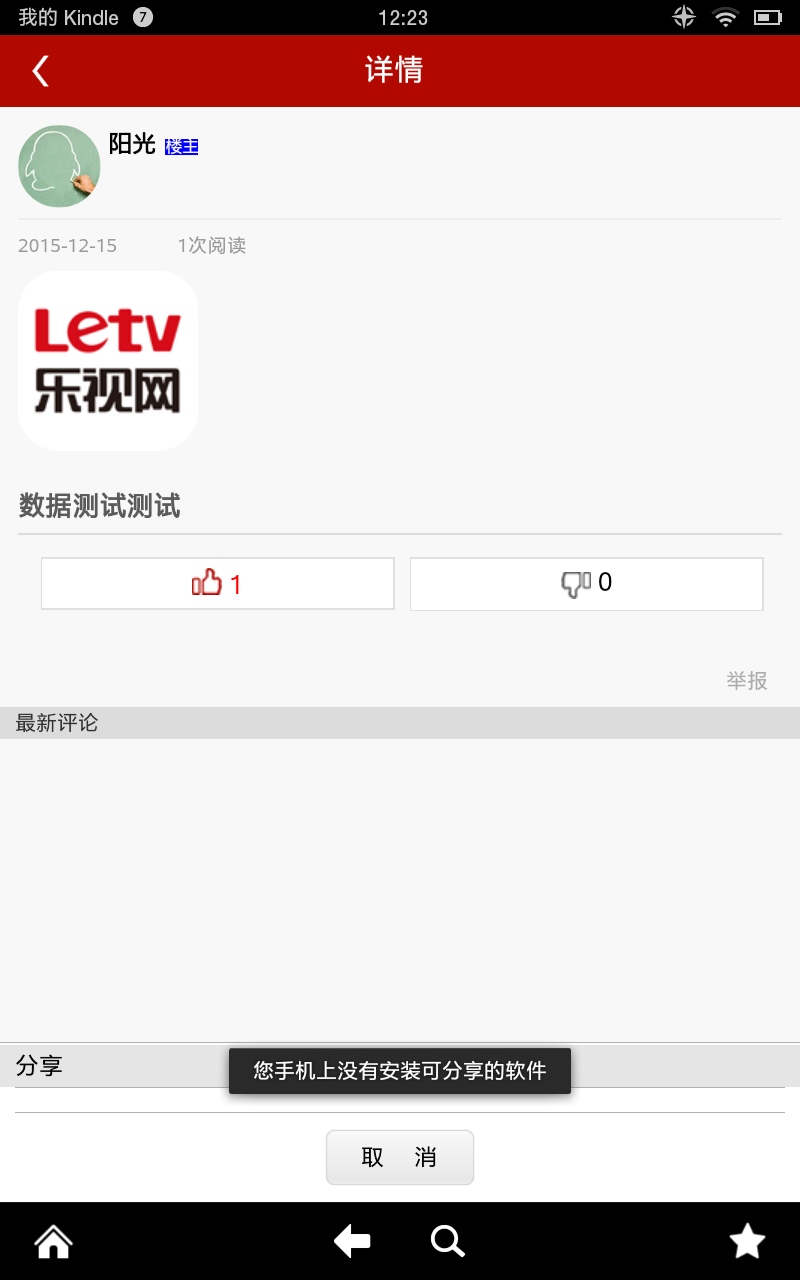alert: (208, 1039, 604, 1108)
button: (307, 1130, 511, 1194)
imgbutton: (162, 559, 259, 610)
